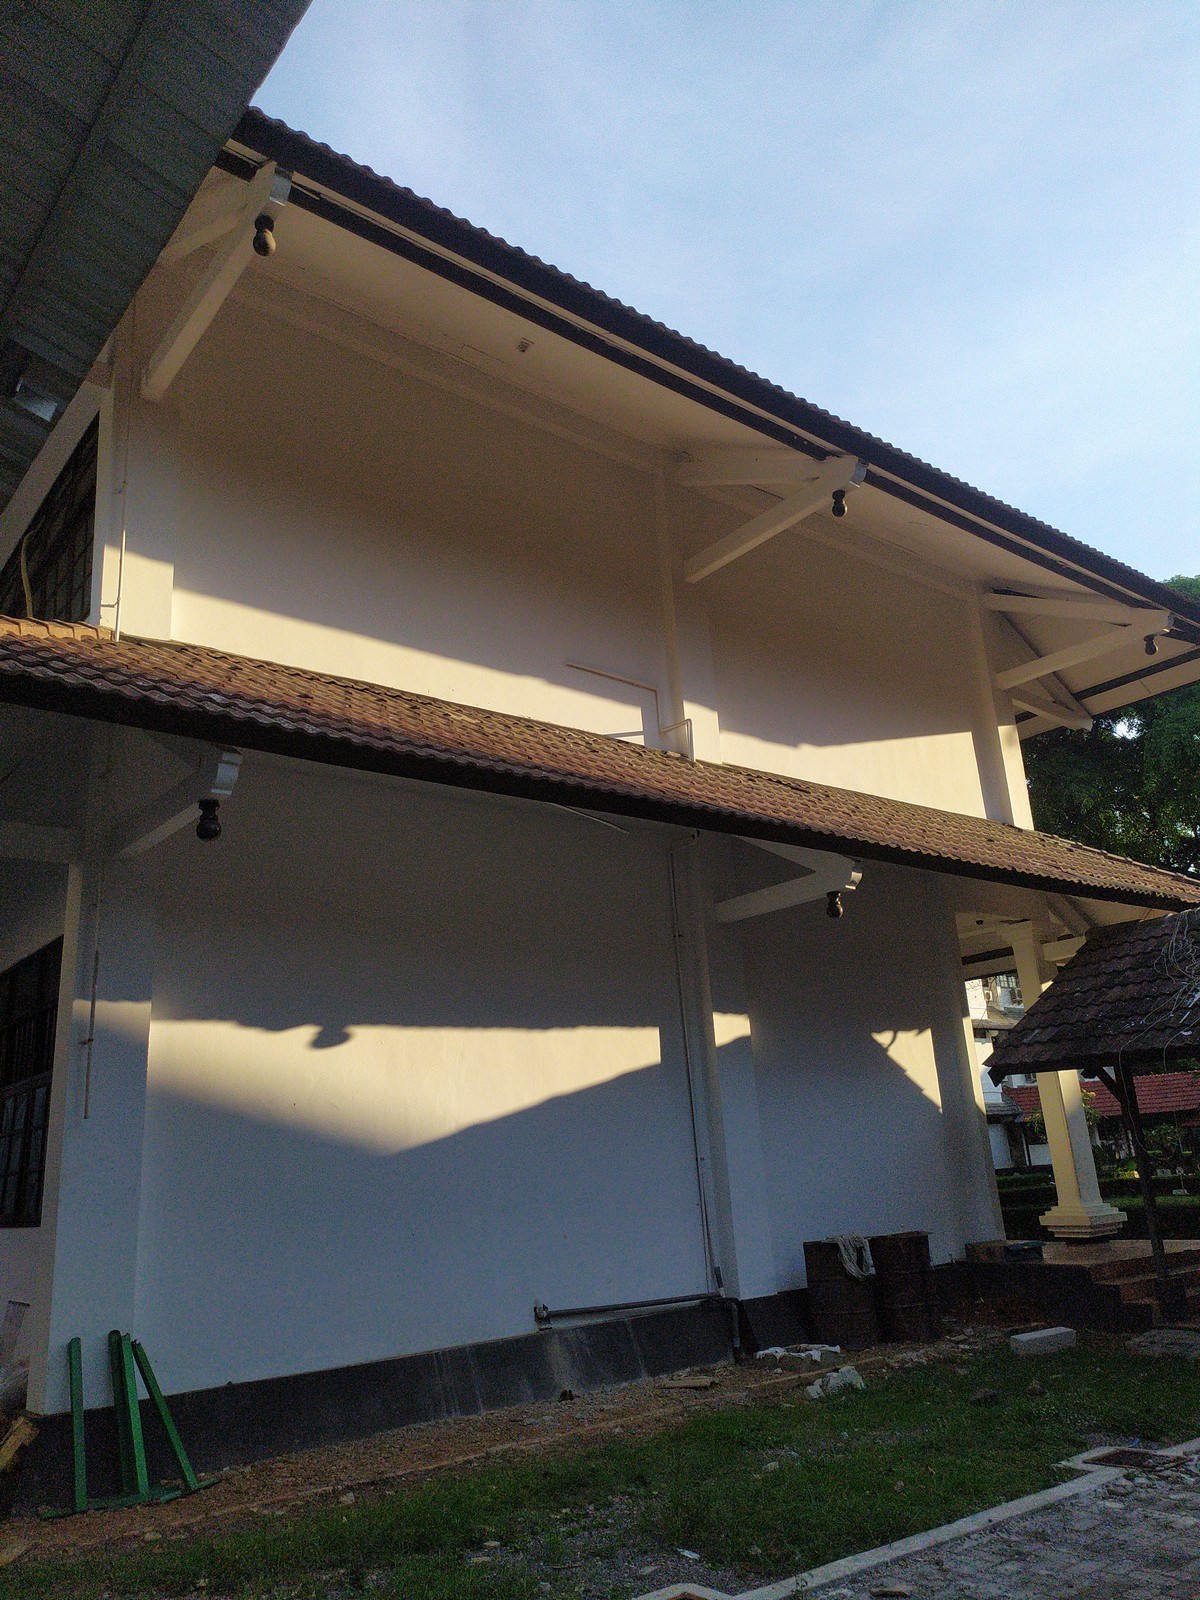concrete beam: (696, 872, 829, 936)
concrete column: (34, 736, 163, 1458), (667, 838, 795, 1308), (82, 226, 192, 636), (637, 438, 732, 763), (1024, 918, 1111, 1217), (955, 569, 1039, 831)
